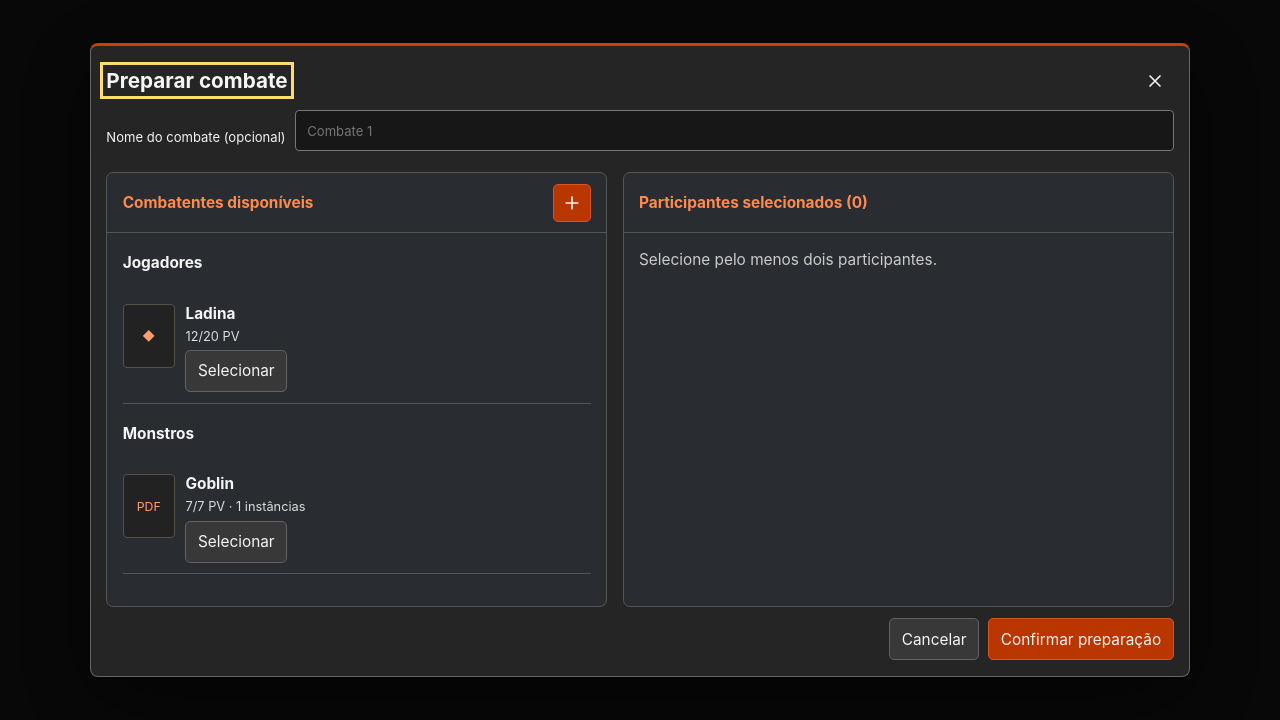
Test: preparação local de combate › atalho + tem dica por mouse e foco e abre a configuração existente
Hover over the button named "Adicionar combatente avulso".
mouse_move(572, 203)  # box 553,184 -> 591,222
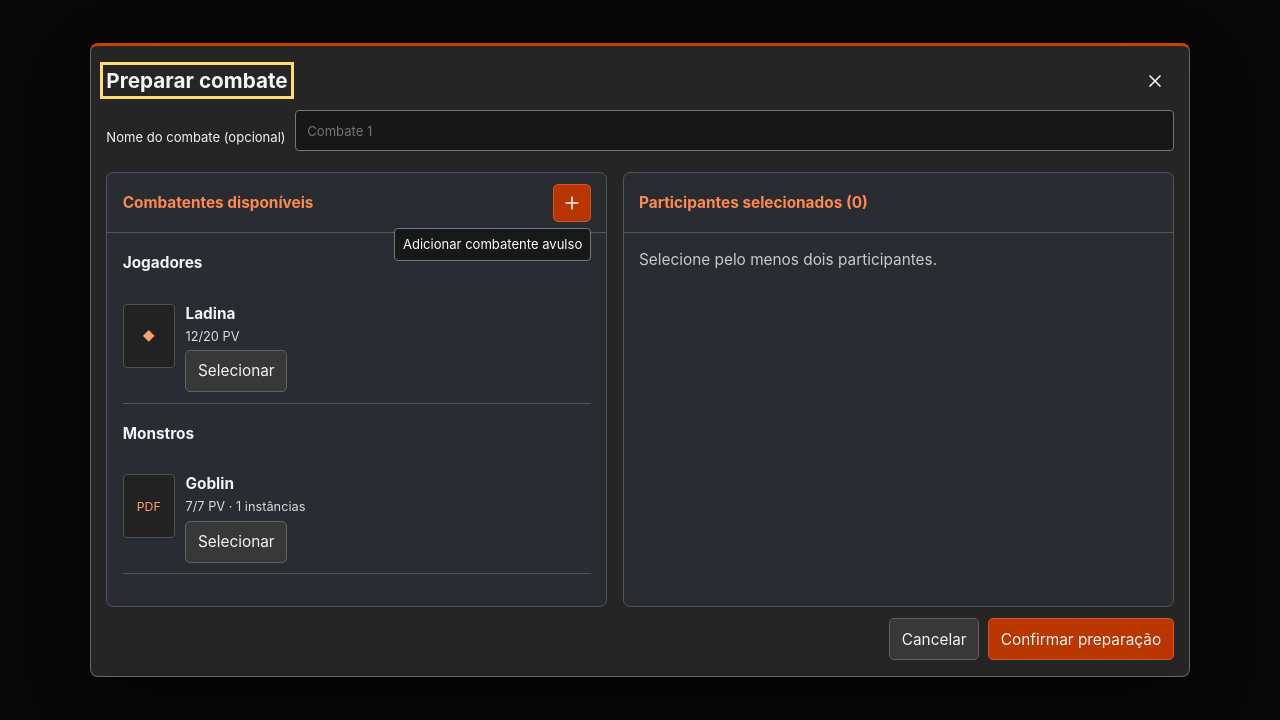
Expected: the tooltip reads "Adicionar combatente avulso", 403,236 -> 582,252
Move the pointer off the button named "Adicionar combatente avulso", box 553,184 -> 591,222
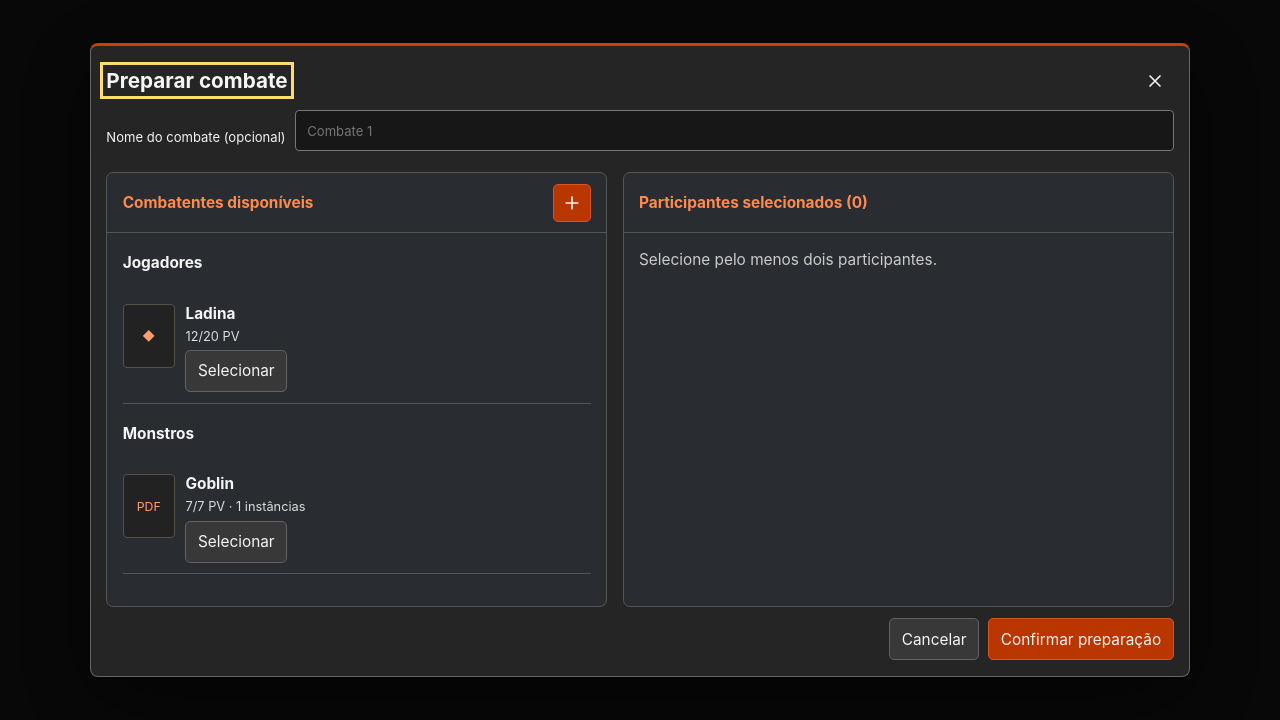
Expected: the tooltip "Adicionar combatente avulso" is gone
Focus the button named "Adicionar combatente avulso" at [572, 203], box 553,184 -> 591,222
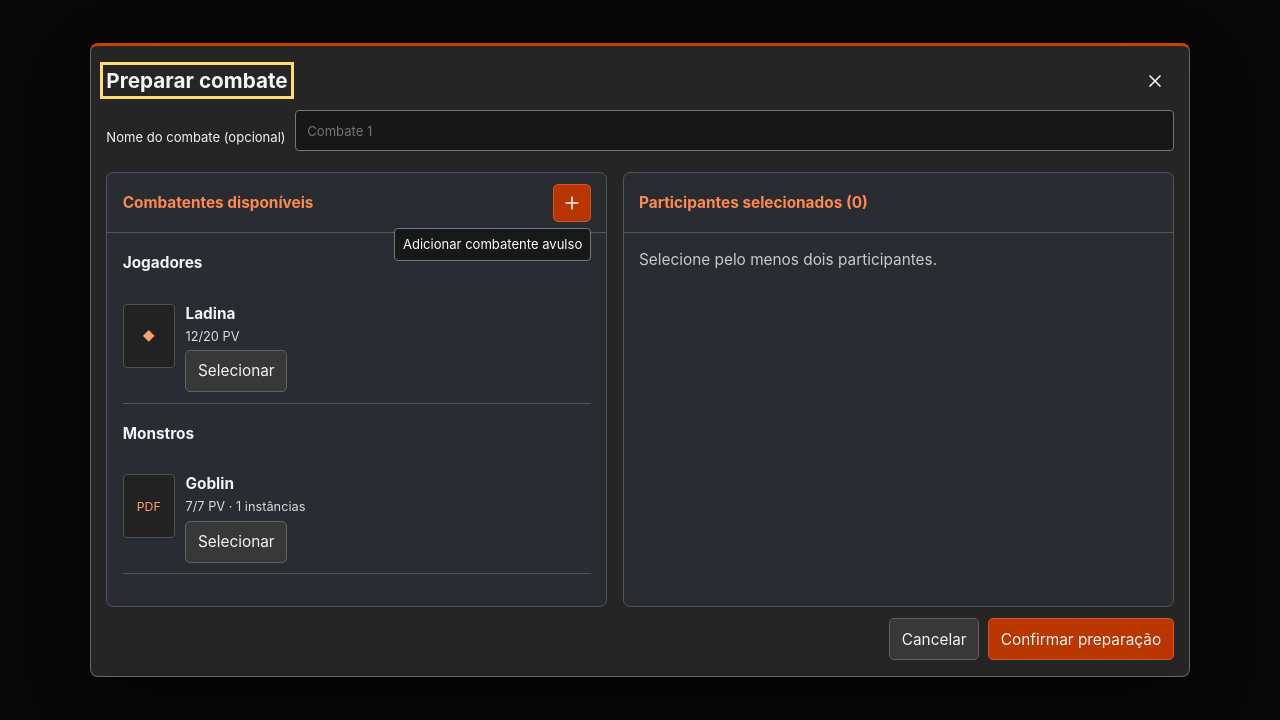
Expected: the tooltip "Adicionar combatente avulso" is shown, 394,228 -> 591,261
Leave the button named "Adicionar combatente avulso", box 553,184 -> 591,222
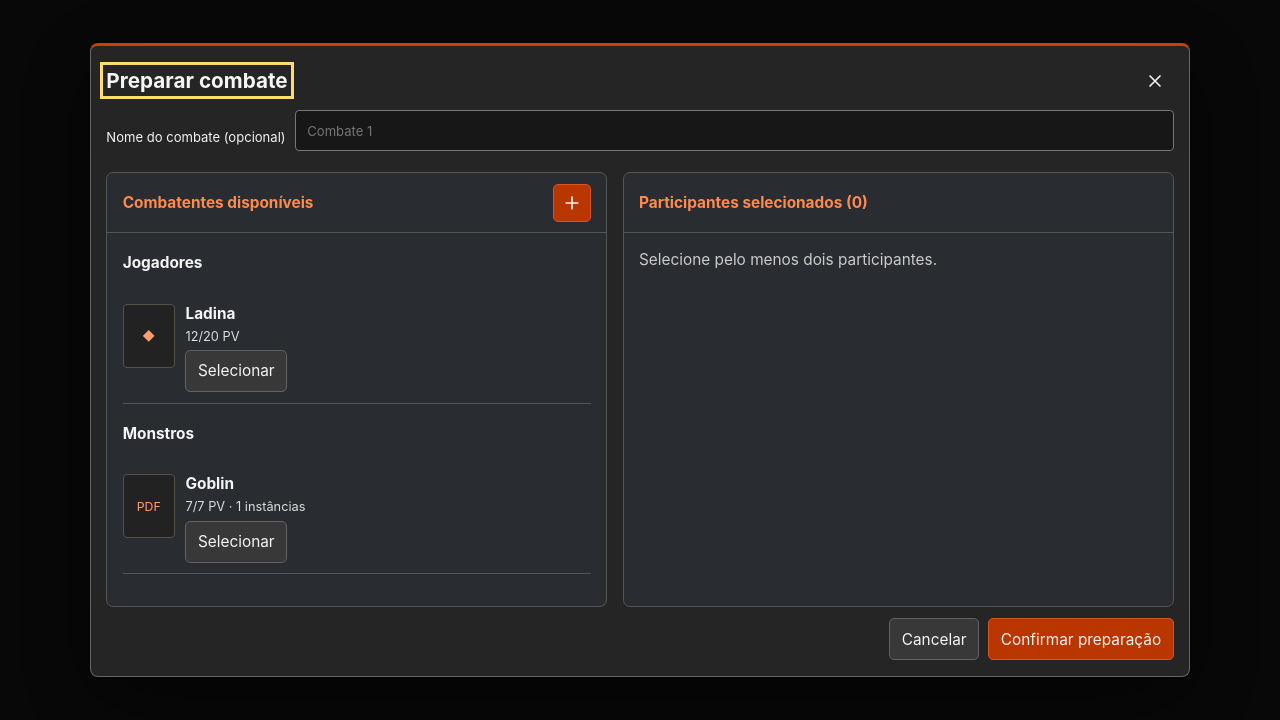
Expected: the tooltip "Adicionar combatente avulso" is gone
Click the button named "Adicionar combatente avulso".
click(572, 203)  # box 553,184 -> 591,222
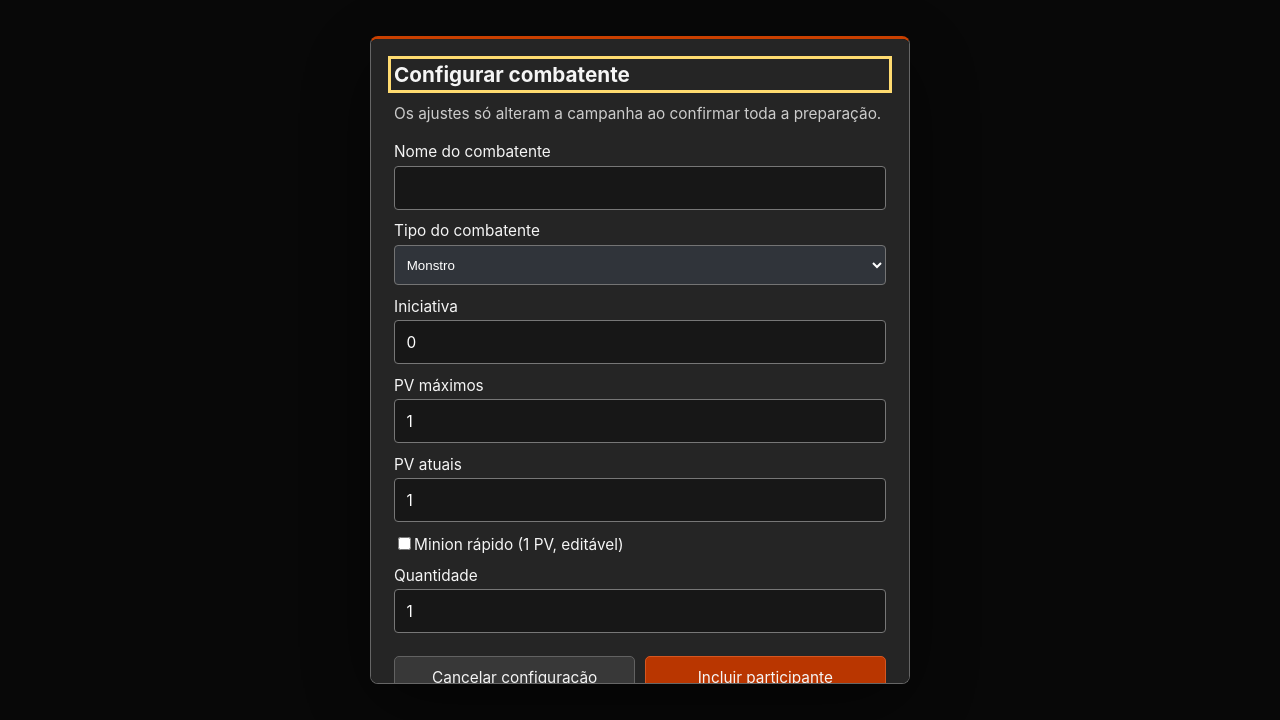
Expected: the dialog "Configurar combatente" is shown, 370,36 -> 910,684
